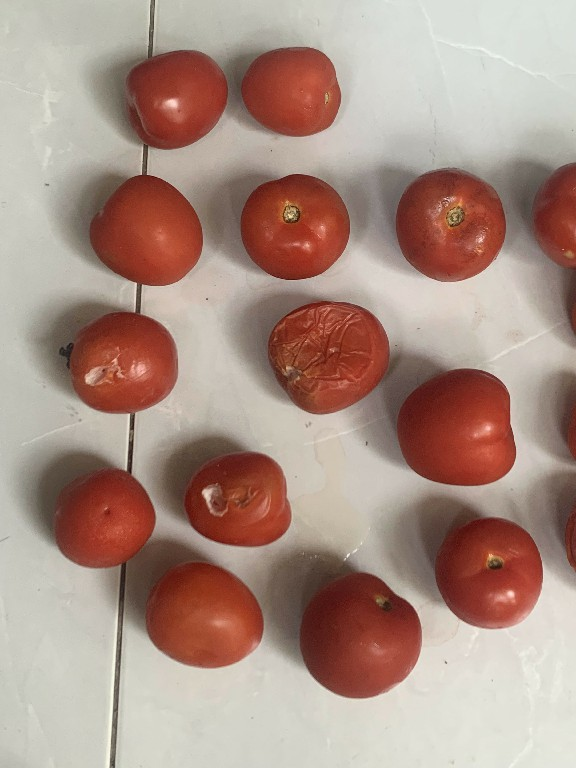NG: (53, 304, 185, 420), (266, 296, 392, 413), (181, 451, 300, 553)
OK: (291, 569, 429, 701), (394, 367, 522, 488), (389, 163, 512, 285), (83, 175, 209, 291), (145, 560, 269, 671), (435, 513, 548, 632), (235, 170, 349, 286), (122, 45, 234, 152), (47, 465, 156, 569), (235, 43, 344, 141)
